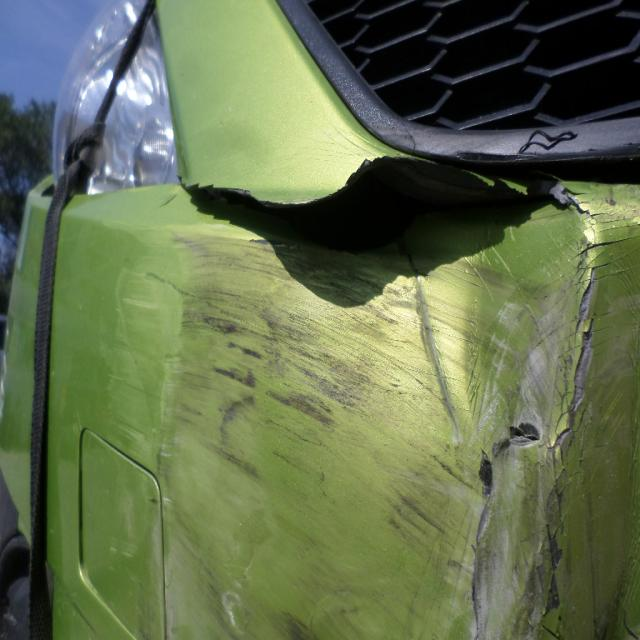Cabossage: (119, 285, 450, 640), (473, 271, 572, 429)
Dechirure: (536, 175, 624, 640), (186, 160, 541, 271), (462, 418, 548, 639)
Rayure: (187, 286, 433, 475), (177, 225, 438, 299), (369, 467, 459, 554), (263, 575, 375, 640)
